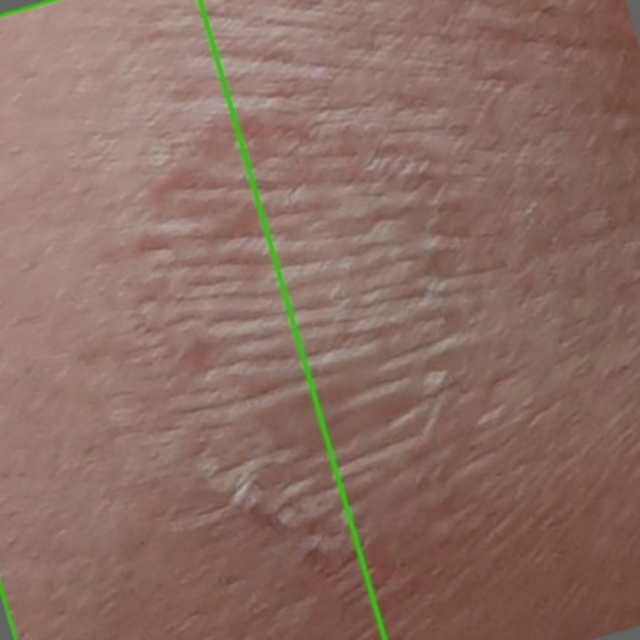Tinea Corporis: (0, 0, 386, 639)
